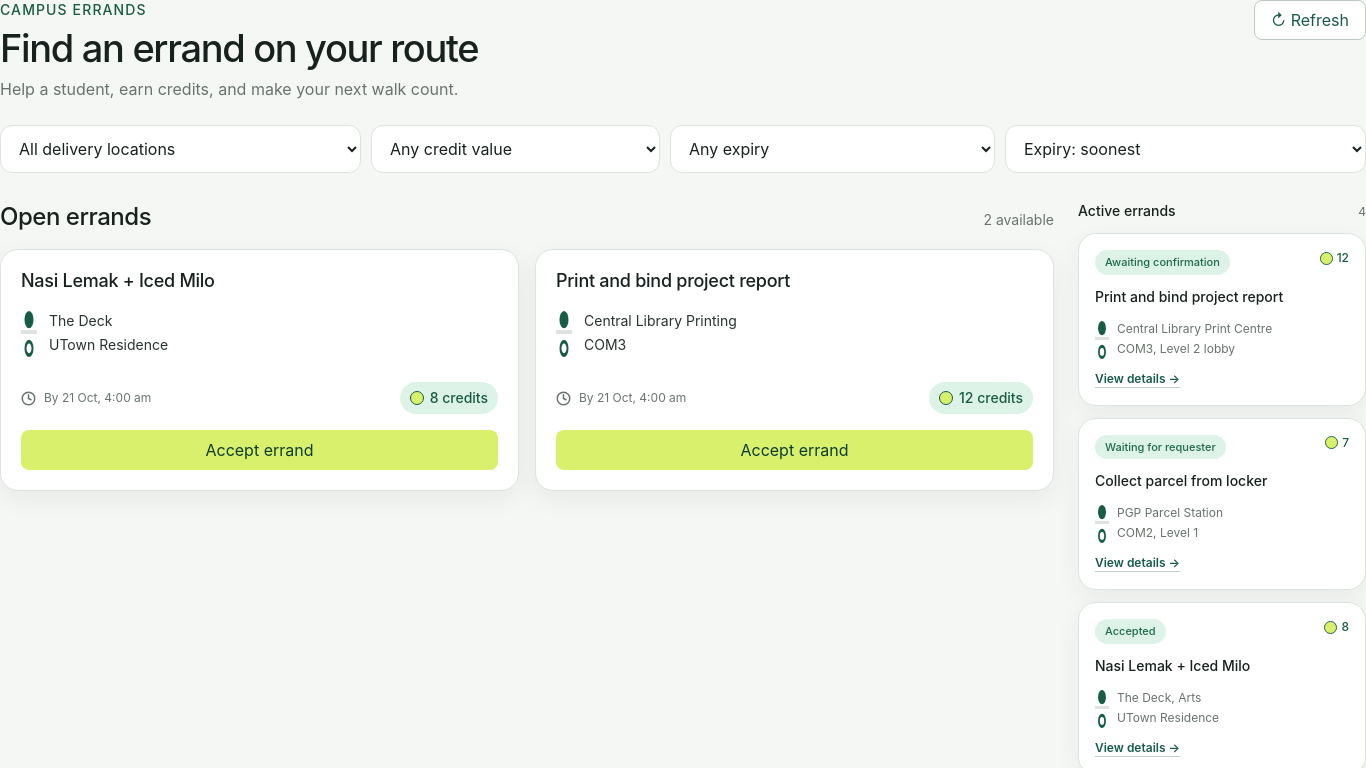
Test: DashboardPage › confirms an errand before moving it from open to active
expect the text "2 available" is shown: met, box [983,210,1054,230]
expect the element that starts with "Nasi Lemak + Iced Milo" is shown: met, box [0,249,519,491]
Click the 1st button "Accept errand" at (260, 450), box [21,430,498,470]
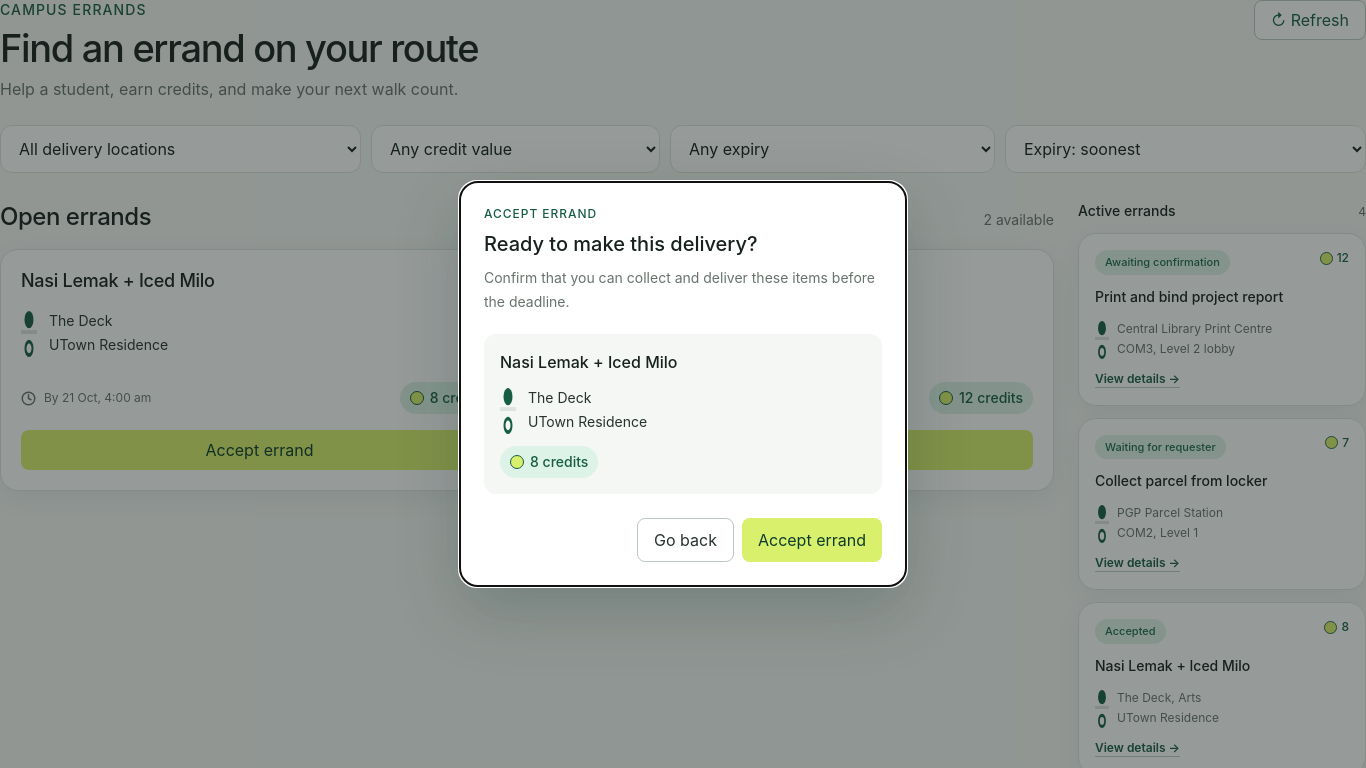
expect the dialog "Ready to make this delivery?" shows "The Deck": met, box [528,389,591,406]
expect the dialog "Ready to make this delivery?" shows "UTown Residence": met, box [528,413,647,430]
Click the button "Accept errand" at (812, 540), box [742,518,882,562]
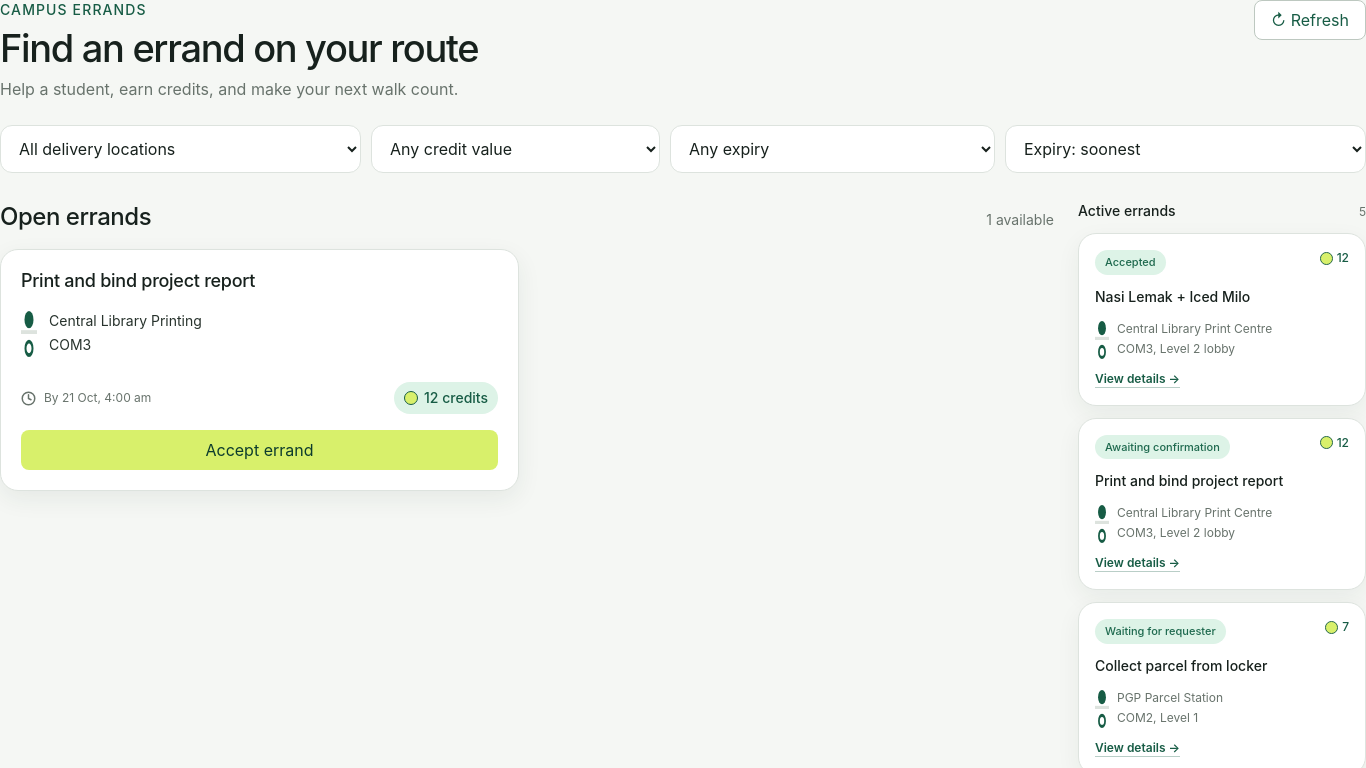
expect the dialog is gone: met
expect the text "1 available" is shown: met, box [986,210,1054,230]
expect the text "5" is shown: met, box [1359,204,1365,220]
